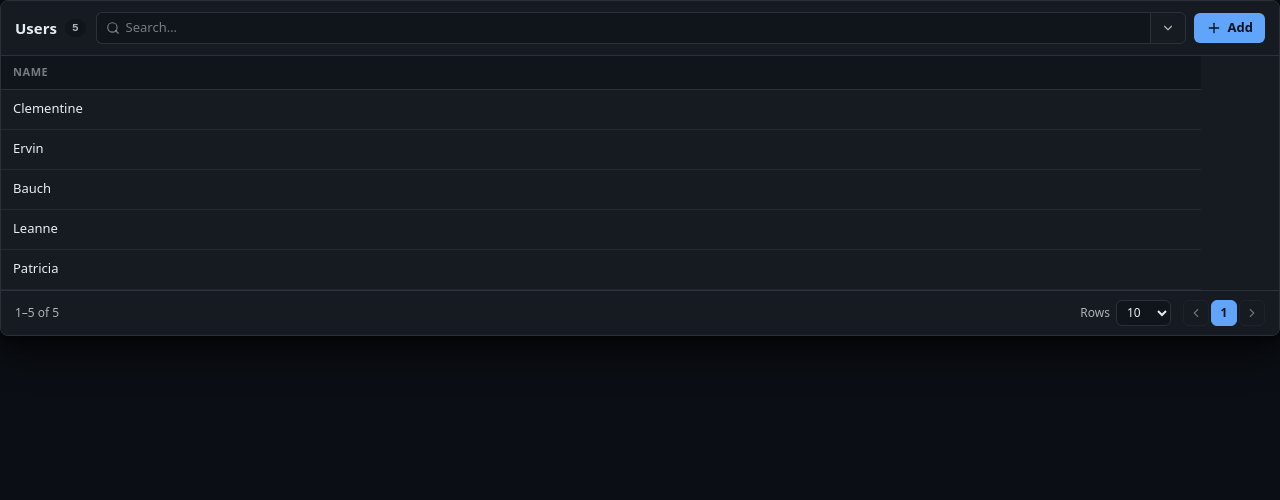
create with a parent that owns the rows › lists the created row once
Click the button "Add" at (1229,28), box [1194,13,1265,43]
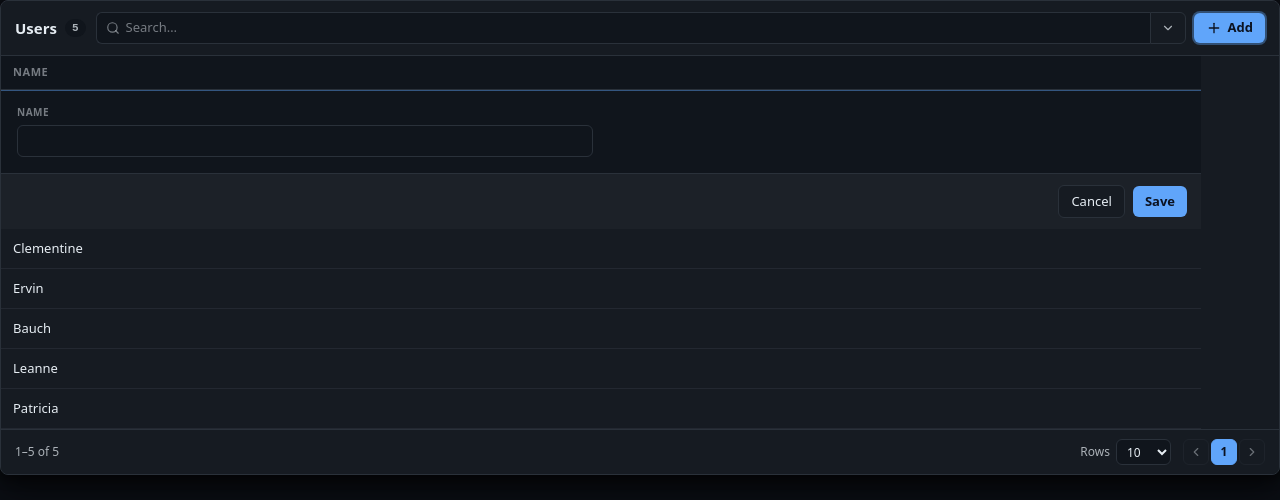
Type "Glenna" into the field labelled "Name" at (305,140), box [17,124,593,156]
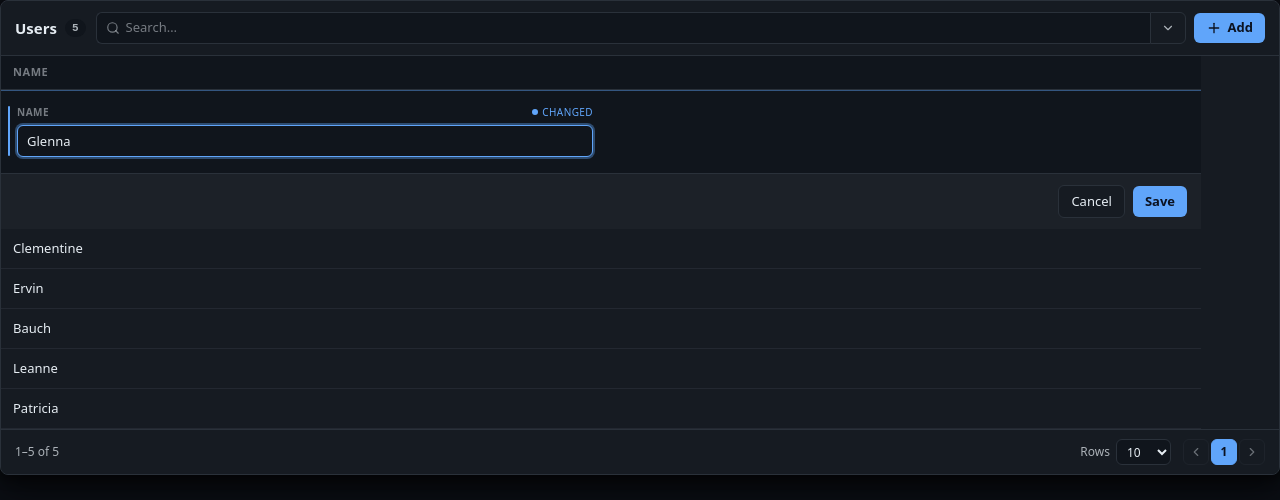
Click the button "Save" at (1160,201), box [1133,186,1187,217]
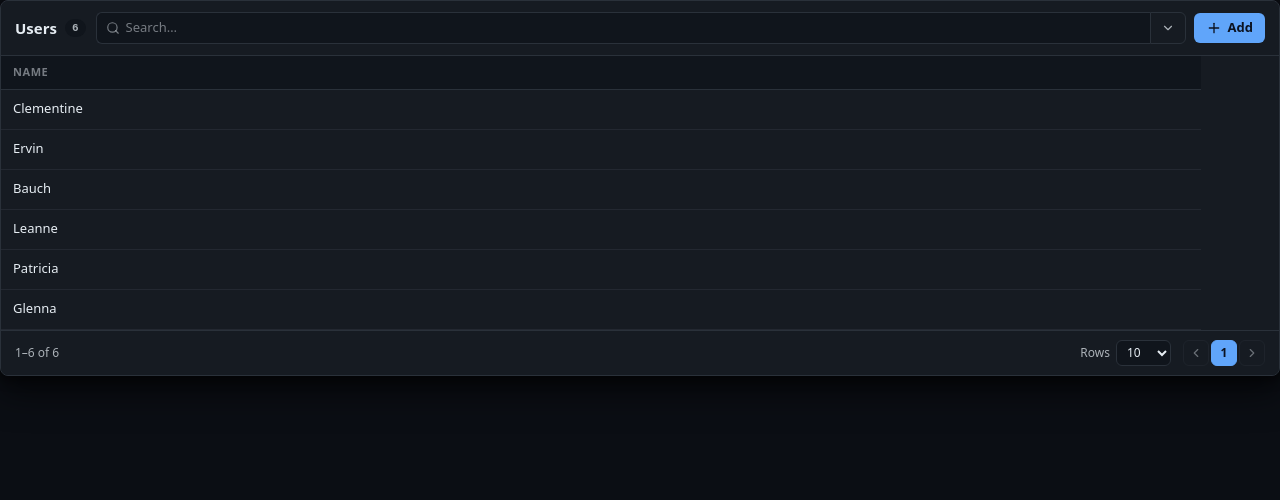
Expected: the text "Glenna" is shown once, [13,299,56,317]
Expected: the text "1–6 of 6" is shown, [15,344,59,362]
